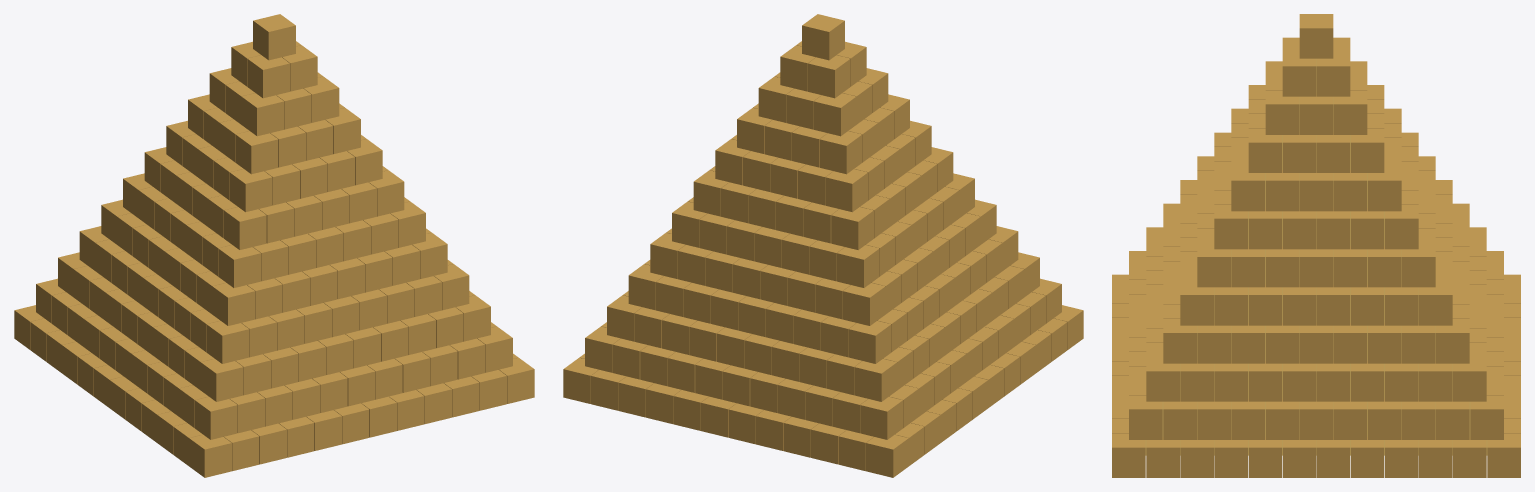
The picture shows the model from 3 angles, left to right: view 1: azimuth 30°, elevation 25°; view 2: azimuth 150°, elevation 25°; view 3: azimuth 270°, elevation 25°; orthographic projection. The views are drawn at different scales.
Visible parts, largest first — view 1: Cube|Cube.001|Dupli|4.0.0.0.0.0.0.0.0, Cube|Cube.001|Dupli|73.0.0.0.0.0.0.0.0, Cube|Cube.001|Dupli|72.0.0.0.0.0.0.0.0, Cube|Cube.001|Dupli|67.0.0.0.0.0.0.0.0, Cube|Cube.001|Dupli|66.0.0.0.0.0.0.0.0, Cube|Cube.001|Dupli|68.0.0.0.0.0.0.0.0, Cube|Cube.001|Dupli|2.0.0.0.0.0.0.0.0, Cube|Cube.001|Dupli|71.0.0.0.0.0.0.0.0, Cube|Cube.001|Dupli|74.0.0.0.0.0.0.0.0, Cube|Cube.001|Dupli|69.0.0.0.0.0.0.0.0, Cube|Cube.001|Dupli|70.0.0.0.0.0.0.0.0, Cube|Cube.001|Dupli|65.0.0.0.0.0.0.0.0 (+132 smaller); view 2: Cube|Cube.001|Dupli|4.0.0.0.0.0.0.0.0, Cube|Cube.001|Dupli|83.0.0.0.0.0.0.0.0, Cube|Cube.001|Dupli|82.0.0.0.0.0.0.0.0, Cube|Cube.001|Dupli|77.0.0.0.0.0.0.0.0, Cube|Cube.001|Dupli|76.0.0.0.0.0.0.0.0, Cube|Cube.001|Dupli|78.0.0.0.0.0.0.0.0, Cube|Cube.001|Dupli|3.0.0.0.0.0.0.0.0, Cube|Cube.001|Dupli|81.0.0.0.0.0.0.0.0, Cube|Cube.001|Dupli|84.0.0.0.0.0.0.0.0, Cube|Cube.001|Dupli|79.0.0.0.0.0.0.0.0, Cube|Cube.001|Dupli|80.0.0.0.0.0.0.0.0, Cube|Cube.001|Dupli|75.0.0.0.0.0.0.0.0 (+132 smaller); view 3: Cube, Cube|Cube.001|Dupli|4.0.0.0.0.0.0.0.0, Cube|Cube.001|Dupli|33.0.0.0.0.0.0.0.0, Cube|Cube.001|Dupli|34.0.0.0.0.0.0.0.0, Cube|Cube.001|Dupli|63.0.0.0.0.0.0.0.0, Cube|Cube.001|Dupli|64.0.0.0.0.0.0.0.0, Cube|Cube.001|Dupli|31.0.0.0.0.0.0.0.0, Cube|Cube.001|Dupli|61.0.0.0.0.0.0.0.0, Cube|Cube.001|Dupli|28.0.0.0.0.0.0.0.0, Cube|Cube.001|Dupli|29.0.0.0.0.0.0.0.0, Cube|Cube.001|Dupli|30.0.0.0.0.0.0.0.0, Cube|Cube.001|Dupli|58.0.0.0.0.0.0.0.0 (+67 smaller).
Part boxes in pixels (left/top/right/bottom): Cube|Cube.001|Dupli|4.0.0.0.0.0.0.0.0: left=253, top=14, right=295, bottom=60; Cube|Cube.001|Dupli|73.0.0.0.0.0.0.0.0: left=241, top=93, right=284, bottom=136; Cube|Cube.001|Dupli|72.0.0.0.0.0.0.0.0: left=235, top=131, right=278, bottom=174; Cube|Cube.001|Dupli|67.0.0.0.0.0.0.0.0: left=206, top=321, right=249, bottom=363; Cube|Cube.001|Dupli|66.0.0.0.0.0.0.0.0: left=200, top=359, right=243, bottom=401; Cube|Cube.001|Dupli|68.0.0.0.0.0.0.0.0: left=212, top=283, right=255, bottom=325; Cube|Cube.001|Dupli|2.0.0.0.0.0.0.0.0: left=189, top=434, right=231, bottom=477; Cube|Cube.001|Dupli|71.0.0.0.0.0.0.0.0: left=230, top=169, right=272, bottom=212; Cube|Cube.001|Dupli|74.0.0.0.0.0.0.0.0: left=247, top=55, right=289, bottom=98; Cube|Cube.001|Dupli|69.0.0.0.0.0.0.0.0: left=218, top=245, right=260, bottom=287; Cube|Cube.001|Dupli|70.0.0.0.0.0.0.0.0: left=224, top=207, right=266, bottom=249; Cube|Cube.001|Dupli|65.0.0.0.0.0.0.0.0: left=195, top=397, right=237, bottom=439; Cube|Cube.001|Dupli|4.0.0.0.0.0.0.0.0: left=802, top=14, right=844, bottom=60; Cube|Cube.001|Dupli|83.0.0.0.0.0.0.0.0: left=813, top=93, right=856, bottom=136; Cube|Cube.001|Dupli|82.0.0.0.0.0.0.0.0: left=819, top=131, right=862, bottom=174; Cube|Cube.001|Dupli|77.0.0.0.0.0.0.0.0: left=848, top=321, right=891, bottom=363; Cube|Cube.001|Dupli|76.0.0.0.0.0.0.0.0: left=854, top=359, right=897, bottom=401; Cube|Cube.001|Dupli|78.0.0.0.0.0.0.0.0: left=842, top=283, right=885, bottom=325; Cube|Cube.001|Dupli|3.0.0.0.0.0.0.0.0: left=866, top=434, right=908, bottom=477; Cube|Cube.001|Dupli|81.0.0.0.0.0.0.0.0: left=825, top=169, right=867, bottom=212; Cube|Cube.001|Dupli|84.0.0.0.0.0.0.0.0: left=808, top=55, right=850, bottom=98; Cube|Cube.001|Dupli|79.0.0.0.0.0.0.0.0: left=837, top=245, right=879, bottom=287; Cube|Cube.001|Dupli|80.0.0.0.0.0.0.0.0: left=831, top=207, right=873, bottom=249; Cube|Cube.001|Dupli|75.0.0.0.0.0.0.0.0: left=860, top=397, right=902, bottom=439; Cube: left=1145, top=59, right=1487, bottom=455; Cube|Cube.001|Dupli|4.0.0.0.0.0.0.0.0: left=1299, top=14, right=1333, bottom=58; Cube|Cube.001|Dupli|33.0.0.0.0.0.0.0.0: left=1333, top=90, right=1367, bottom=134; Cube|Cube.001|Dupli|34.0.0.0.0.0.0.0.0: left=1316, top=52, right=1350, bottom=96; Cube|Cube.001|Dupli|63.0.0.0.0.0.0.0.0: left=1265, top=90, right=1299, bottom=134; Cube|Cube.001|Dupli|64.0.0.0.0.0.0.0.0: left=1282, top=52, right=1316, bottom=96; Cube|Cube.001|Dupli|31.0.0.0.0.0.0.0.0: left=1368, top=166, right=1401, bottom=211; Cube|Cube.001|Dupli|61.0.0.0.0.0.0.0.0: left=1231, top=166, right=1264, bottom=211; Cube|Cube.001|Dupli|28.0.0.0.0.0.0.0.0: left=1419, top=280, right=1452, bottom=325; Cube|Cube.001|Dupli|29.0.0.0.0.0.0.0.0: left=1402, top=242, right=1435, bottom=287; Cube|Cube.001|Dupli|30.0.0.0.0.0.0.0.0: left=1385, top=204, right=1418, bottom=249; Cube|Cube.001|Dupli|58.0.0.0.0.0.0.0.0: left=1180, top=280, right=1213, bottom=325.
Bounding box in the file's own units: 218 × 218 × 218.
